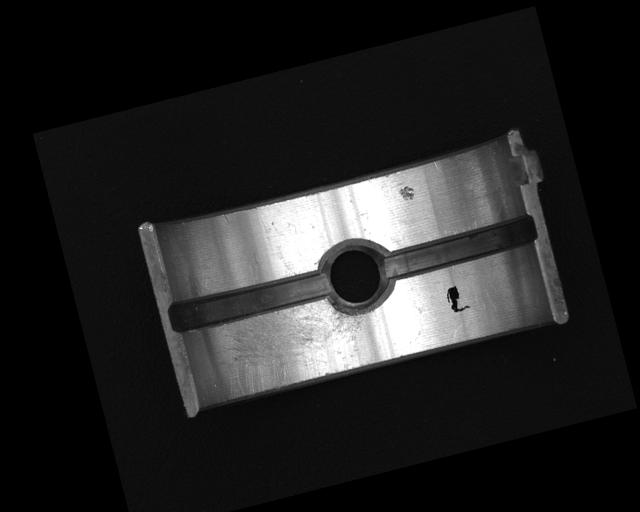blot: (443, 283, 471, 315)
bruise: (396, 184, 416, 203)
gap: (165, 262, 333, 338), (378, 214, 538, 282)
hole: (314, 233, 398, 320)
scratch: (200, 290, 374, 404)
